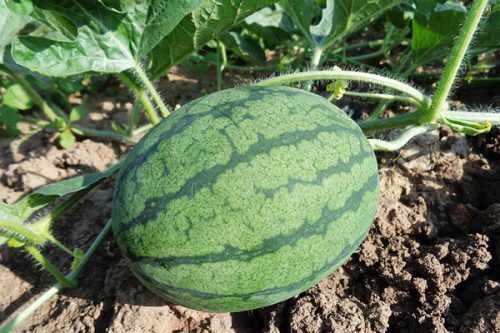Watermelon: (107, 86, 382, 313)
